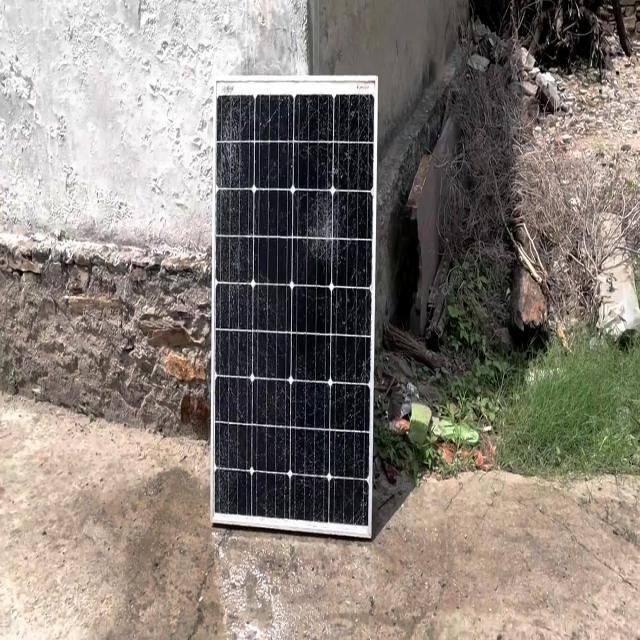faulty: (213, 78, 376, 538)
